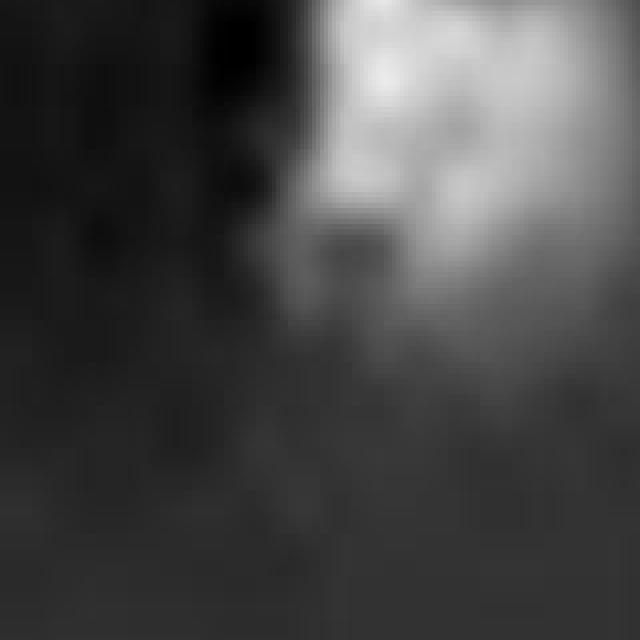person: (285, 1, 585, 385)
